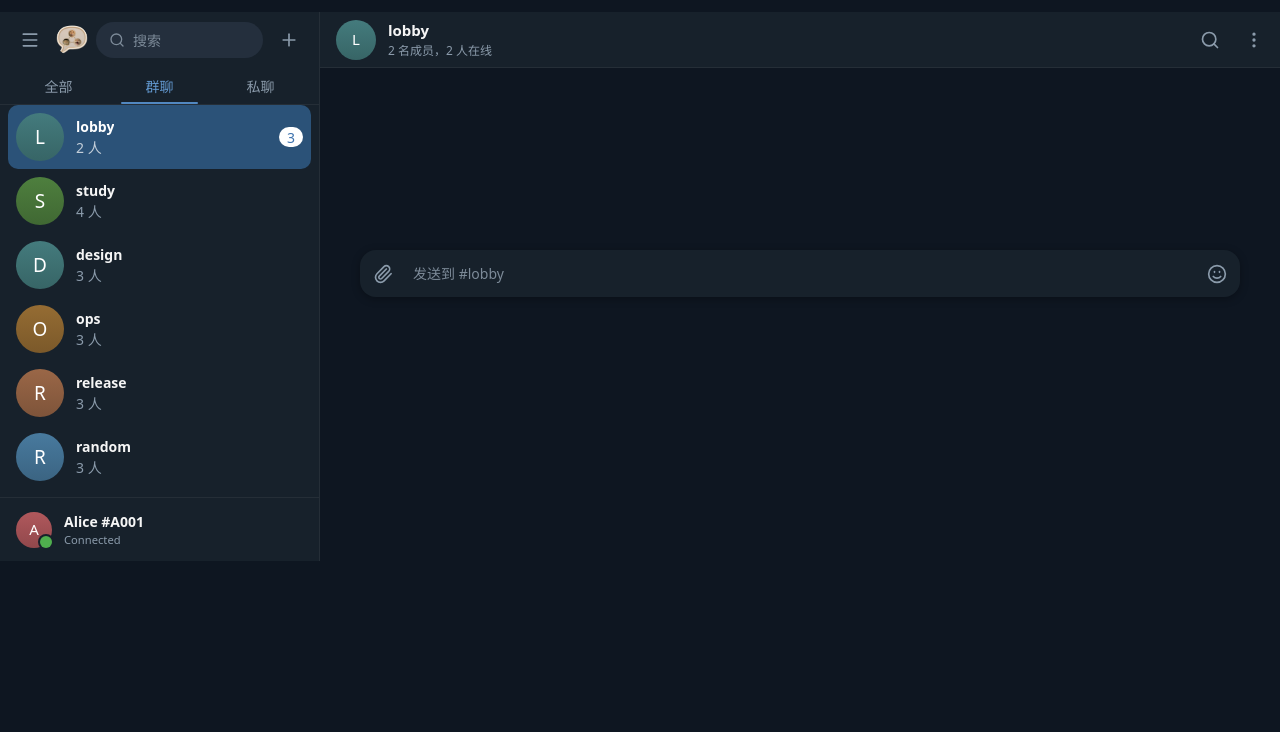
WorkspacePage › hides the conversation search for short lists and filters longer ones
The image size is (1280, 732).
Type "study" into the search field labelled "搜索" at [192, 40], box [133,30,250,50]
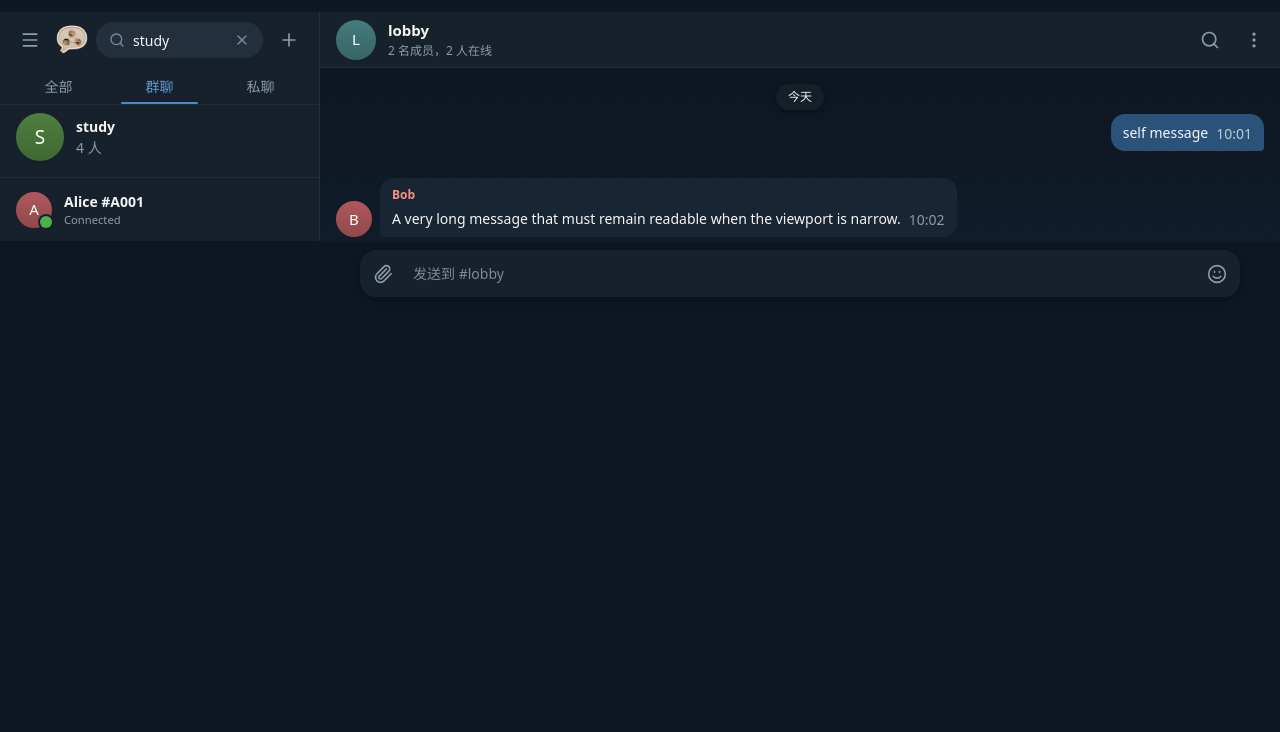
Check: the button with aria-label "room-study" is shown, box [8,105,311,169]
Check: the button "room-lobby" is gone
